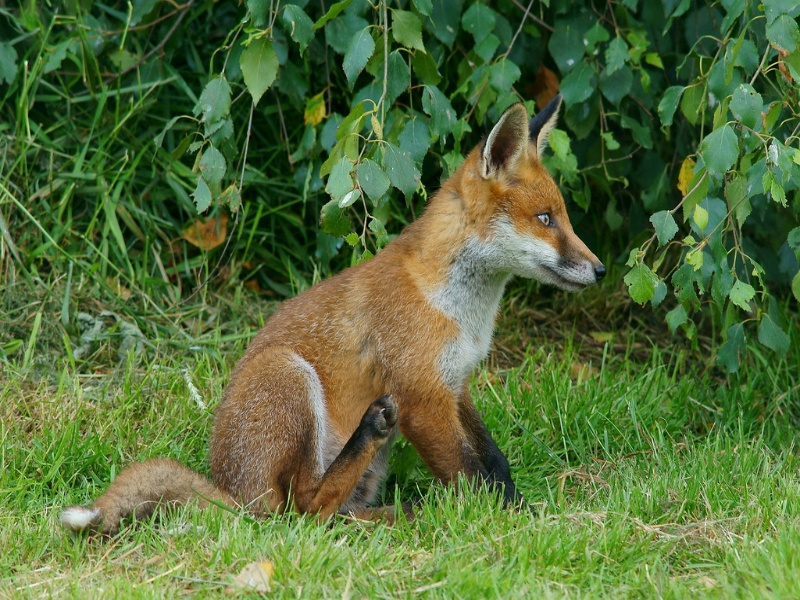fox: (56, 102, 610, 541)
